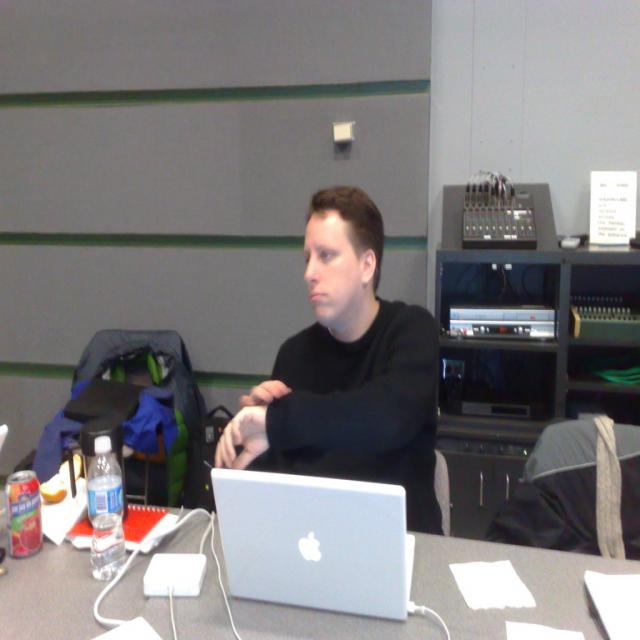chair: (484, 414, 639, 560), (433, 448, 451, 538)
desk: (0, 505, 639, 639)
laptop: (211, 468, 415, 622)
person: (213, 183, 444, 537)
